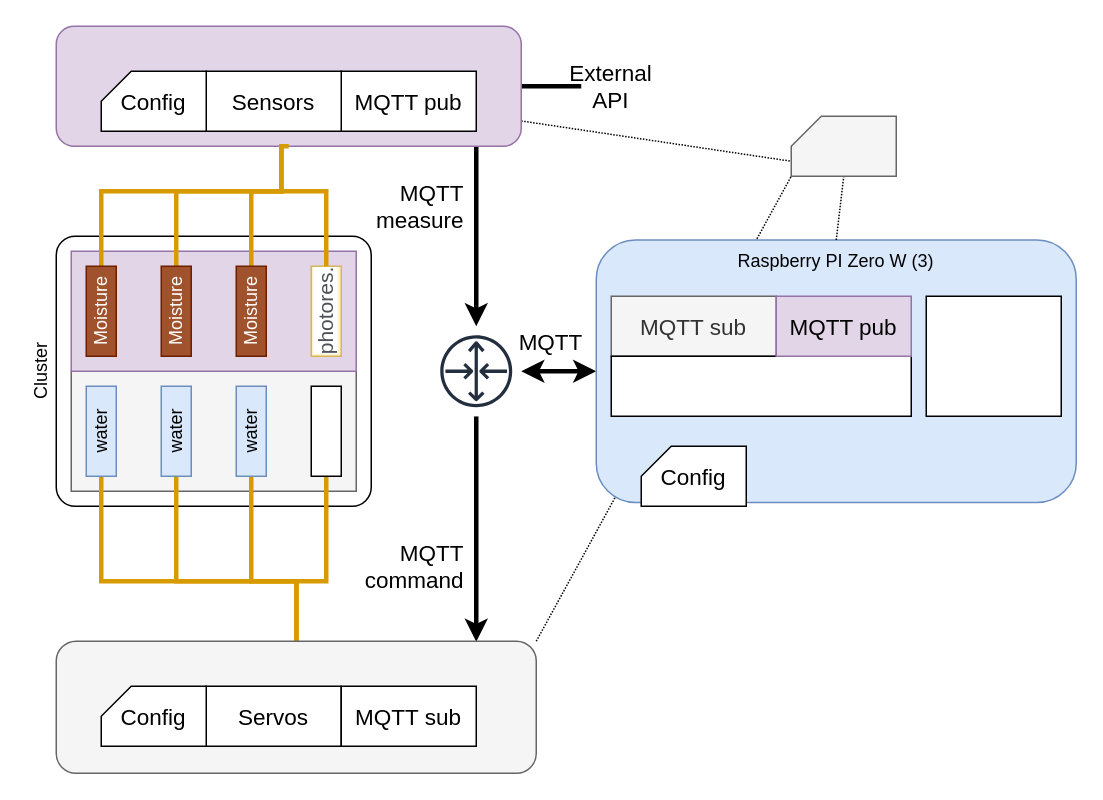
Some shapes in this 1103 by 800 pixel diagram are drawn without their labels. The shapes that lost their labels are listed below. From the top down, each one's box as (x1, y1, x2, y2) in pixels, then its label:
(55, 25, 521, 146): Raspberry PI Zero W (4)
(790, 115, 896, 176): Ansible
(430, 325, 521, 416): Wfi Router
(925, 295, 1061, 416): (1) Mosquitto MQTT broker
(610, 355, 911, 416): Controller
(310, 385, 341, 476): light / win
(55, 640, 536, 773): Raspberry PI Zero W (2)
